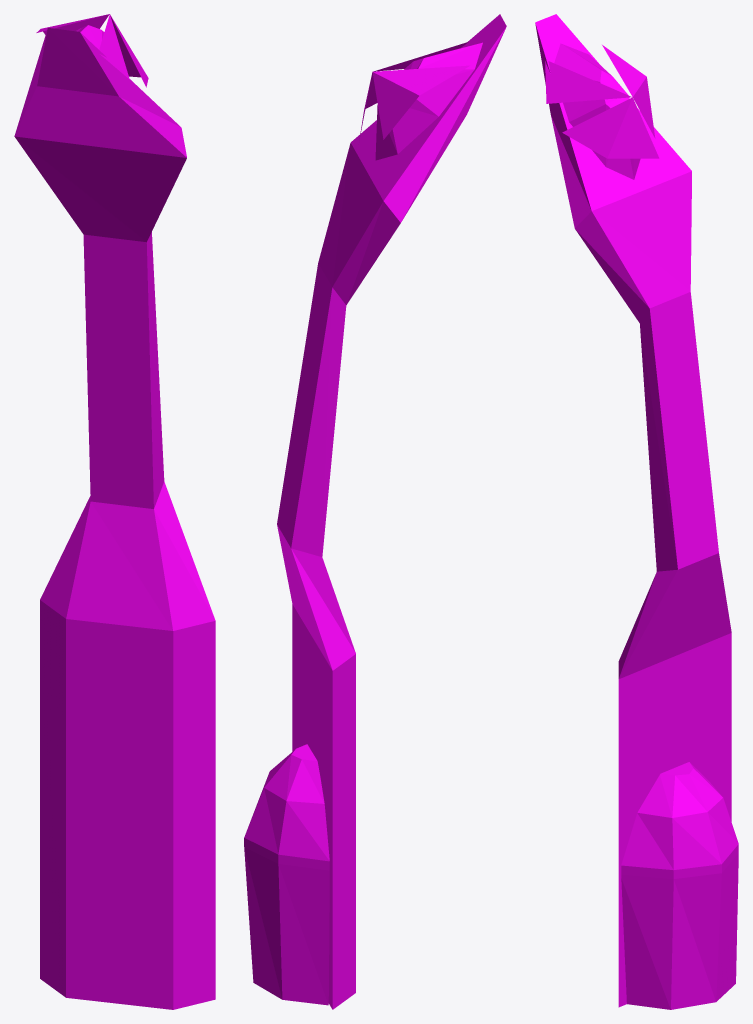
File: magearena tallcorner.obj
3 renders of one model, left to right at view 1: azimuth 30°, elevation 25°; view 2: azimuth 150°, elevation 25°; view 3: azimuth 270°, elevation 25°, orthographic. The views are drawn at different scales.
Visible parts, largest first — view 1: magearena tallcorner_back; view 2: magearena tallcorner_back; view 3: magearena tallcorner_back.
Part boxes in pixels (x1=…): magearena tallcorner_back: x1=14, y1=14, x2=215, y2=1009; magearena tallcorner_back: x1=244, y1=14, x2=506, y2=1009; magearena tallcorner_back: x1=535, y1=14, x2=738, y2=1009.
Size of the model in its own units: 1.5 by 7.08 by 1.44.
